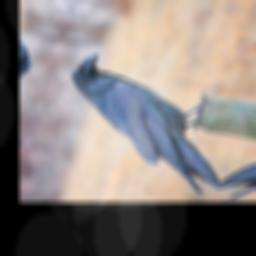Crow: (40, 49, 254, 196)
